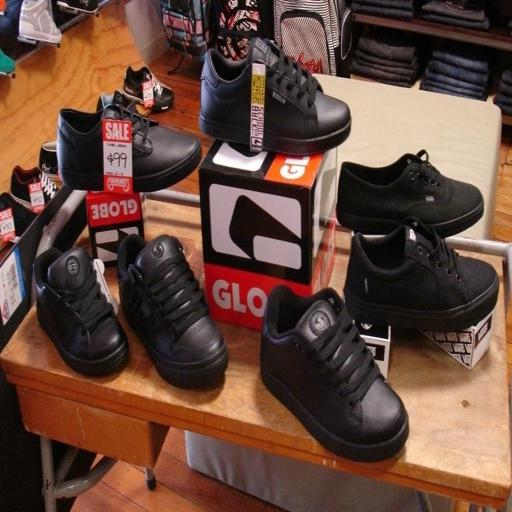shoe: (260, 285, 409, 462), (199, 37, 351, 155), (344, 220, 499, 331), (117, 235, 228, 387), (336, 150, 484, 238), (57, 104, 202, 192), (34, 248, 128, 376), (123, 66, 174, 112), (10, 166, 58, 211), (18, 0, 62, 44), (0, 192, 37, 237), (38, 141, 61, 182), (96, 90, 137, 113), (56, 0, 98, 15), (0, 49, 15, 75)
